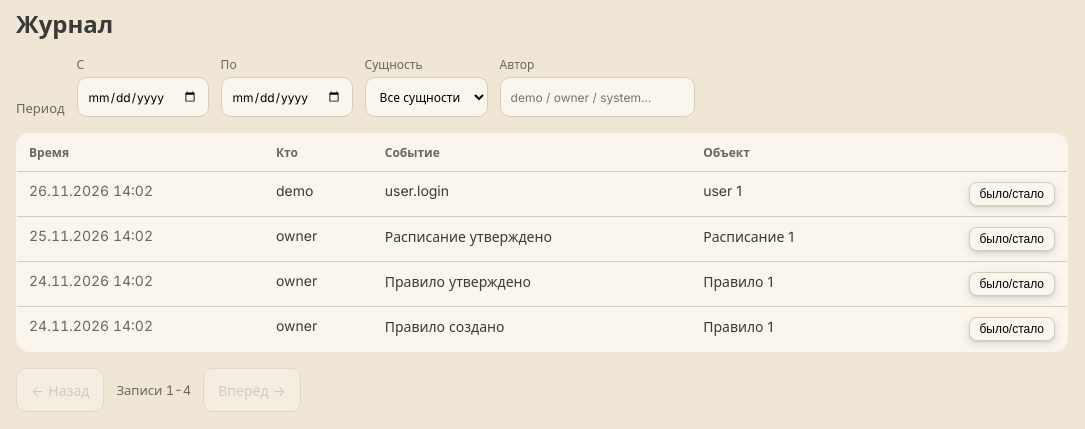
it: AuditPage (normal: seed-записи owner) › фильтр по сущности: alarm → пусто (в normal тревог в журнале нет)
This screenshot has width=1085, height=429.
Select "Тревога" in the dropdown labelled "Сущность" at [426, 97], box [365,77,488,117]
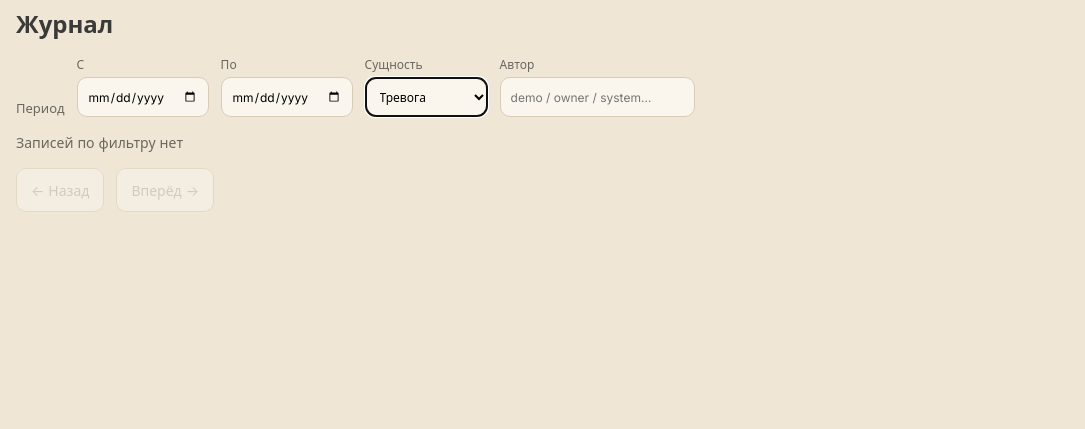
expect the text "Записей по фильтру нет" is shown: met, box [16,134,183,151]
